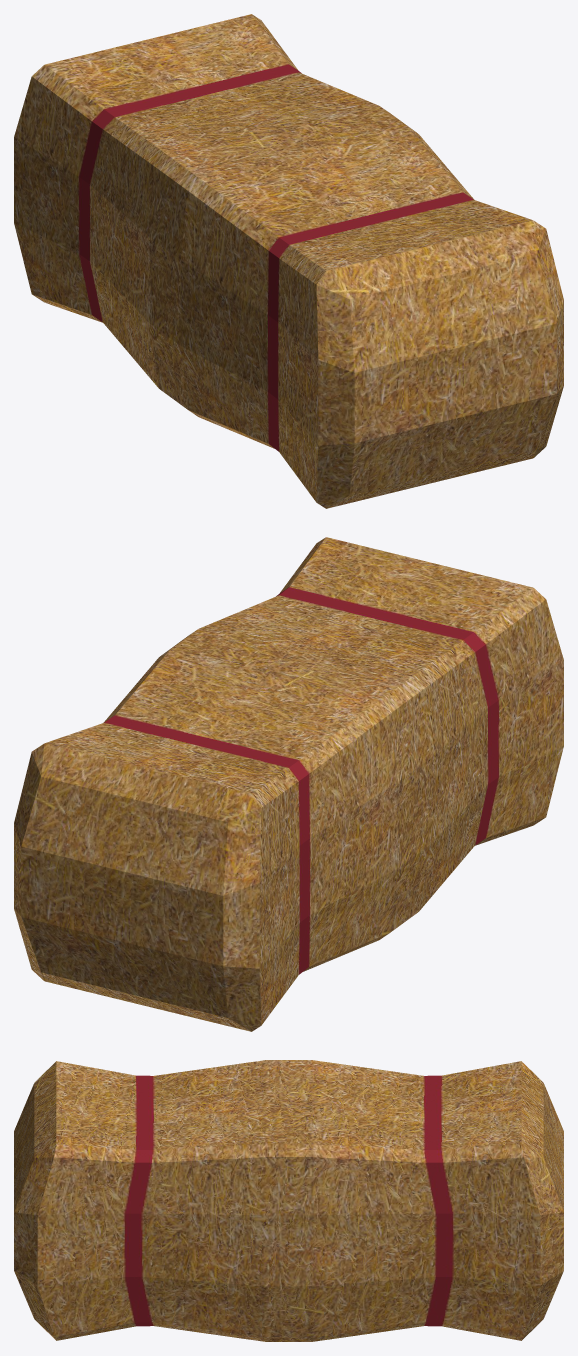
File: HayTied_LP.glb
3 renders of one model, top to bottom at view 1: azimuth 30°, elevation 25°; view 2: azimuth 150°, elevation 25°; view 3: azimuth 270°, elevation 25°, orthographic. The views are drawn at different scales.
Visible parts, largest first — view 1: HayTied_LP; view 2: HayTied_LP; view 3: HayTied_LP.
Boxes of the visible parts, x1=… form: HayTied_LP: x1=14, y1=14, x2=563, y2=508; HayTied_LP: x1=14, y1=537, x2=563, y2=1031; HayTied_LP: x1=14, y1=1060, x2=563, y2=1341.
Size of the model in its own units: 0.5316 by 0.4922 by 1.24.
Materials: 1 (1 with a texture image).
